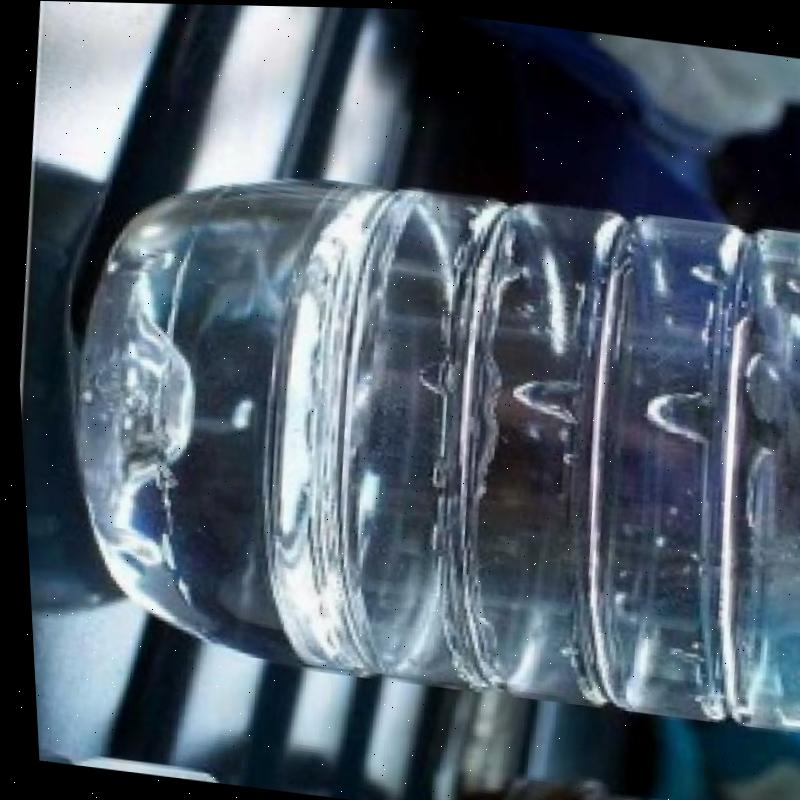botella: (40, 139, 800, 738)
